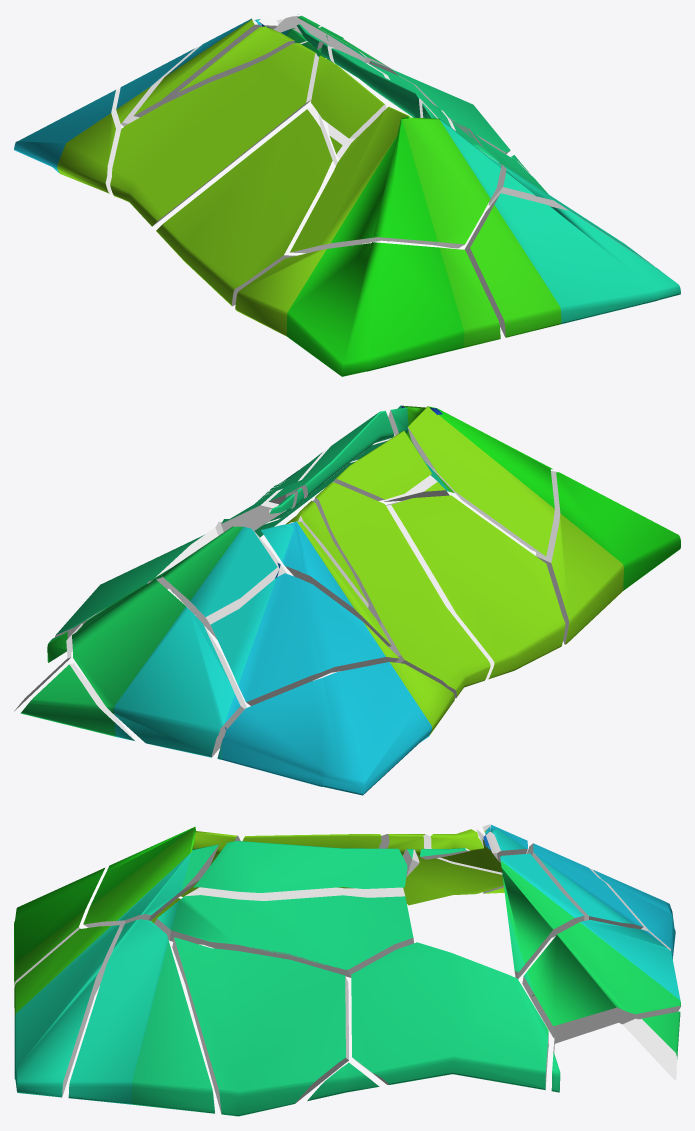
The model's file is Structure_Tower_Knight_Human_03_debris_cells_rooftop_03.fbx.
3 renders of one model, top to bottom at view 1: azimuth 30°, elevation 25°; view 2: azimuth 150°, elevation 25°; view 3: azimuth 270°, elevation 25°, orthographic. The views are drawn at different scales.
Visible parts, largest first — view 1: Structure_Tower_Knight_Human_03.001_cell.020, Structure_Tower_Knight_Human_03.001_cell.016, Structure_Tower_Knight_Human_03.001_cell, Structure_Tower_Knight_Human_03.001_cell.022, Structure_Tower_Knight_Human_03.001_cell.011, Structure_Tower_Knight_Human_03.001_cell.005, Structure_Tower_Knight_Human_03.001_cell.018, Structure_Tower_Knight_Human_03.001_cell.004, Structure_Tower_Knight_Human_03.001_cell.017, Structure_Tower_Knight_Human_03.001_cell.008, Structure_Tower_Knight_Human_03.001_cell.009, Structure_Tower_Knight_Human_03.001_cell.010 (+4 smaller); view 2: Structure_Tower_Knight_Human_03.001_cell.005, Structure_Tower_Knight_Human_03.001_cell.007, Structure_Tower_Knight_Human_03.001_cell.011, Structure_Tower_Knight_Human_03.001_cell.022, Structure_Tower_Knight_Human_03.001_cell.010, Structure_Tower_Knight_Human_03.001_cell.020, Structure_Tower_Knight_Human_03.001_cell.016, Structure_Tower_Knight_Human_03.001_cell.002, Structure_Tower_Knight_Human_03.001_cell.004, Structure_Tower_Knight_Human_03.001_cell.012, Structure_Tower_Knight_Human_03.001_cell.018, Structure_Tower_Knight_Human_03.001_cell.009 (+5 smaller); view 3: Structure_Tower_Knight_Human_03.001_cell.009, Structure_Tower_Knight_Human_03.001_cell.001, Structure_Tower_Knight_Human_03.001_cell.003, Structure_Tower_Knight_Human_03.001_cell.025, Structure_Tower_Knight_Human_03.001_cell.007, Structure_Tower_Knight_Human_03.001_cell, Structure_Tower_Knight_Human_03.001_cell.008, Structure_Tower_Knight_Human_03.001_cell.016, Structure_Tower_Knight_Human_03.001_cell.002, Structure_Tower_Knight_Human_03.001_cell.020, Structure_Tower_Knight_Human_03.001_cell.022, Structure_Tower_Knight_Human_03.001_cell.010 (+7 smaller).
Part boxes in pixels (<box>): Structure_Tower_Knight_Human_03.001_cell.020: <box>235,242,500,376</box>; Structure_Tower_Knight_Human_03.001_cell.016: <box>290,103,501,253</box>; Structure_Tower_Knight_Human_03.001_cell: <box>464,193,680,337</box>; Structure_Tower_Knight_Human_03.001_cell.022: <box>110,43,318,226</box>; Structure_Tower_Knight_Human_03.001_cell.011: <box>156,106,337,306</box>; Structure_Tower_Knight_Human_03.001_cell.005: <box>14,88,121,193</box>; Structure_Tower_Knight_Human_03.001_cell.018: <box>311,55,386,138</box>; Structure_Tower_Knight_Human_03.001_cell.004: <box>134,18,277,117</box>; Structure_Tower_Knight_Human_03.001_cell.017: <box>175,26,295,98</box>; Structure_Tower_Knight_Human_03.001_cell.008: <box>331,48,451,127</box>; Structure_Tower_Knight_Human_03.001_cell.009: <box>369,61,510,154</box>; Structure_Tower_Knight_Human_03.001_cell.010: <box>116,46,200,126</box>; Structure_Tower_Knight_Human_03.001_cell.005: <box>217,662,454,795</box>; Structure_Tower_Knight_Human_03.001_cell.007: <box>72,579,246,757</box>; Structure_Tower_Knight_Human_03.001_cell.011: <box>385,495,565,679</box>; Structure_Tower_Knight_Human_03.001_cell.022: <box>313,482,490,698</box>; Structure_Tower_Knight_Human_03.001_cell.010: <box>210,573,399,705</box>; Structure_Tower_Knight_Human_03.001_cell.020: <box>535,471,680,644</box>; Structure_Tower_Knight_Human_03.001_cell.016: <box>388,405,554,556</box>; Structure_Tower_Knight_Human_03.001_cell.002: <box>147,526,286,638</box>; Structure_Tower_Knight_Human_03.001_cell.004: <box>261,521,391,646</box>; Structure_Tower_Knight_Human_03.001_cell.012: <box>20,663,134,740</box>; Structure_Tower_Knight_Human_03.001_cell.018: <box>333,430,431,500</box>; Structure_Tower_Knight_Human_03.001_cell.009: <box>54,521,223,637</box>; Structure_Tower_Knight_Human_03.001_cell.009: <box>351,942,548,1090</box>; Structure_Tower_Knight_Human_03.001_cell.001: <box>172,937,348,1116</box>; Structure_Tower_Knight_Human_03.001_cell.003: <box>68,919,214,1113</box>; Structure_Tower_Knight_Human_03.001_cell.025: <box>154,887,413,977</box>; Structure_Tower_Knight_Human_03.001_cell.007: <box>522,920,680,1037</box>; Structure_Tower_Knight_Human_03.001_cell: <box>14,925,121,1097</box>; Structure_Tower_Knight_Human_03.001_cell.008: <box>193,841,407,892</box>; Structure_Tower_Knight_Human_03.001_cell.016: <box>83,826,240,929</box>; Structure_Tower_Knight_Human_03.001_cell.002: <box>500,853,584,978</box>; Structure_Tower_Knight_Human_03.001_cell.020: <box>14,868,182,987</box>; Structure_Tower_Knight_Human_03.001_cell.022: <box>378,834,503,905</box>; Structure_Tower_Knight_Human_03.001_cell.010: <box>527,843,643,929</box>.
Size of the model in its own units: 428 by 210 by 645.
